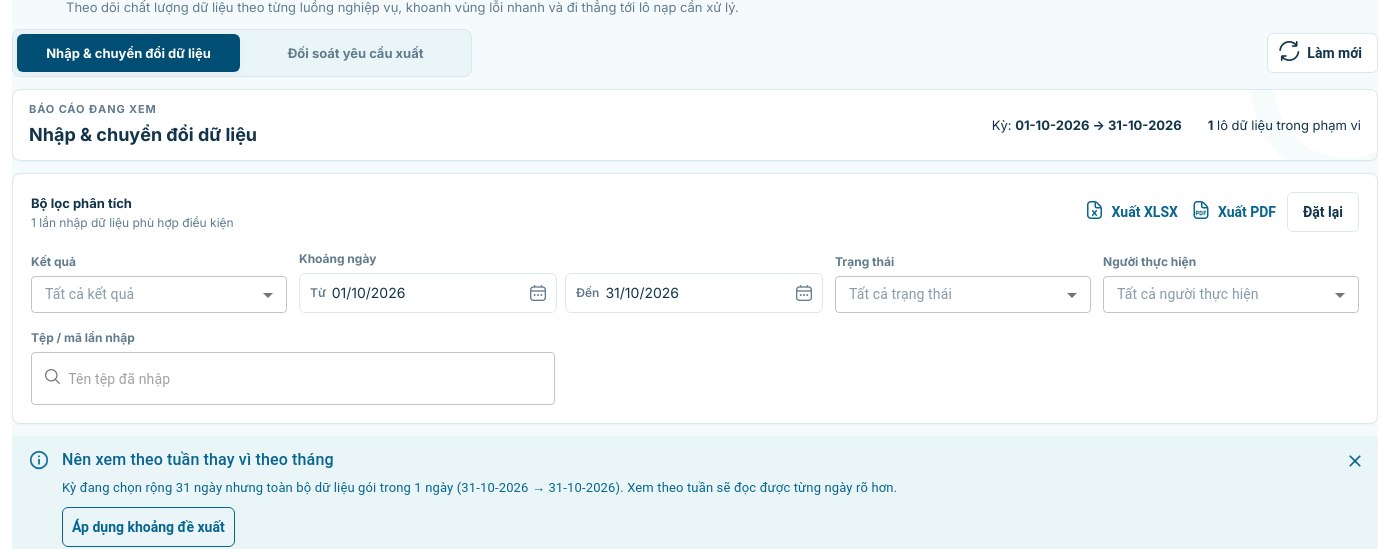
RPT-04 · Nhập liệu, đối chiếu & lỗi › đổi ngữ cảnh sang đối soát thì đọc /reports/import-match và đổi nhãn cột
Click the tab "Đối soát yêu cầu xuất" at (356, 53), box x1=244 y1=34 x2=467 y2=72
(page scrolled)
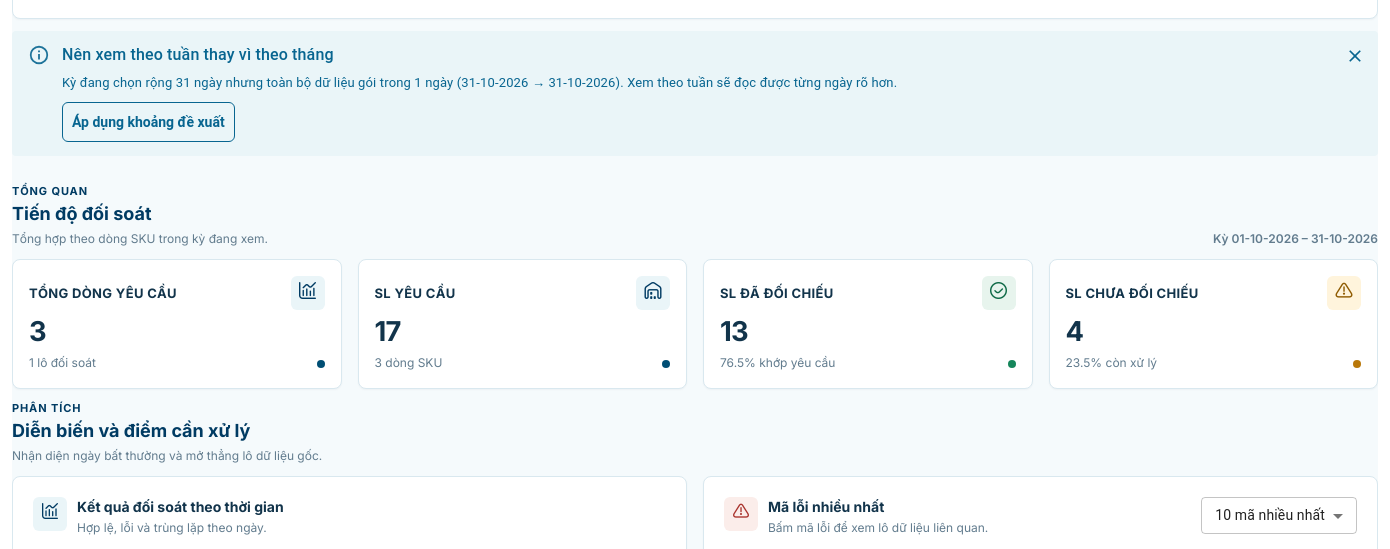
Result: the text "17" is shown at x1=374 y1=315 x2=401 y2=348
Result: the text "13" is shown at x1=720 y1=315 x2=748 y2=348
Result: the text "4" is shown at x1=1066 y1=315 x2=1083 y2=348
